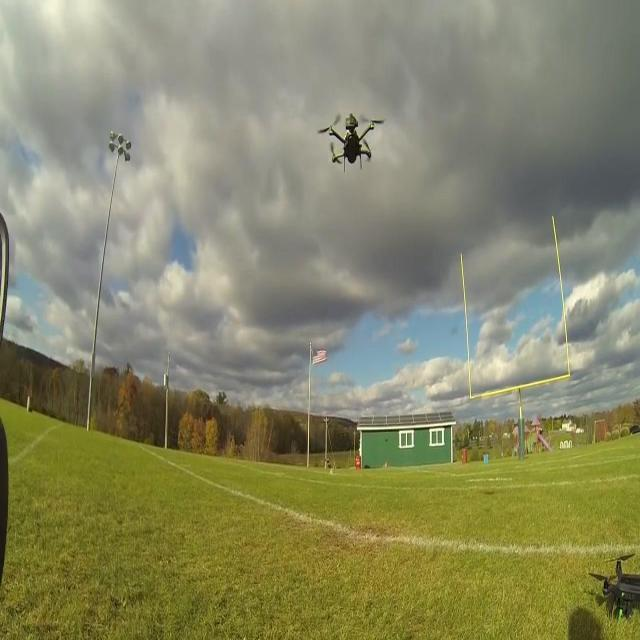drone: (321, 110, 381, 179)
